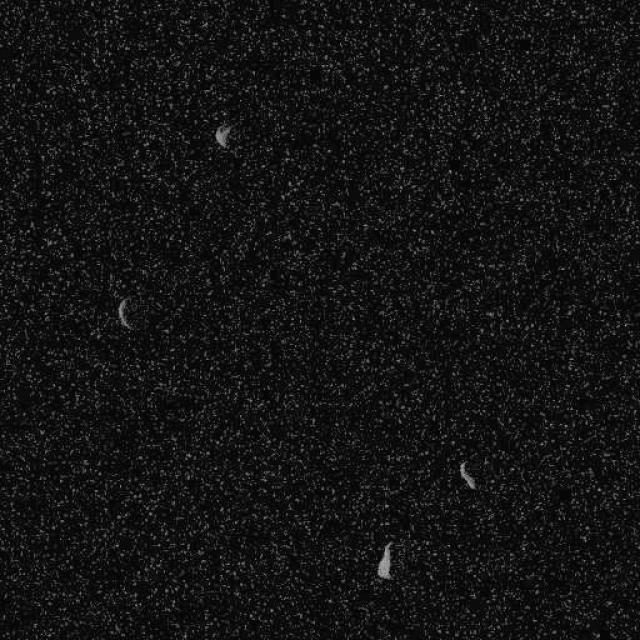D2: (375, 540, 393, 580), (116, 295, 134, 330), (458, 460, 478, 491), (214, 122, 230, 148)
